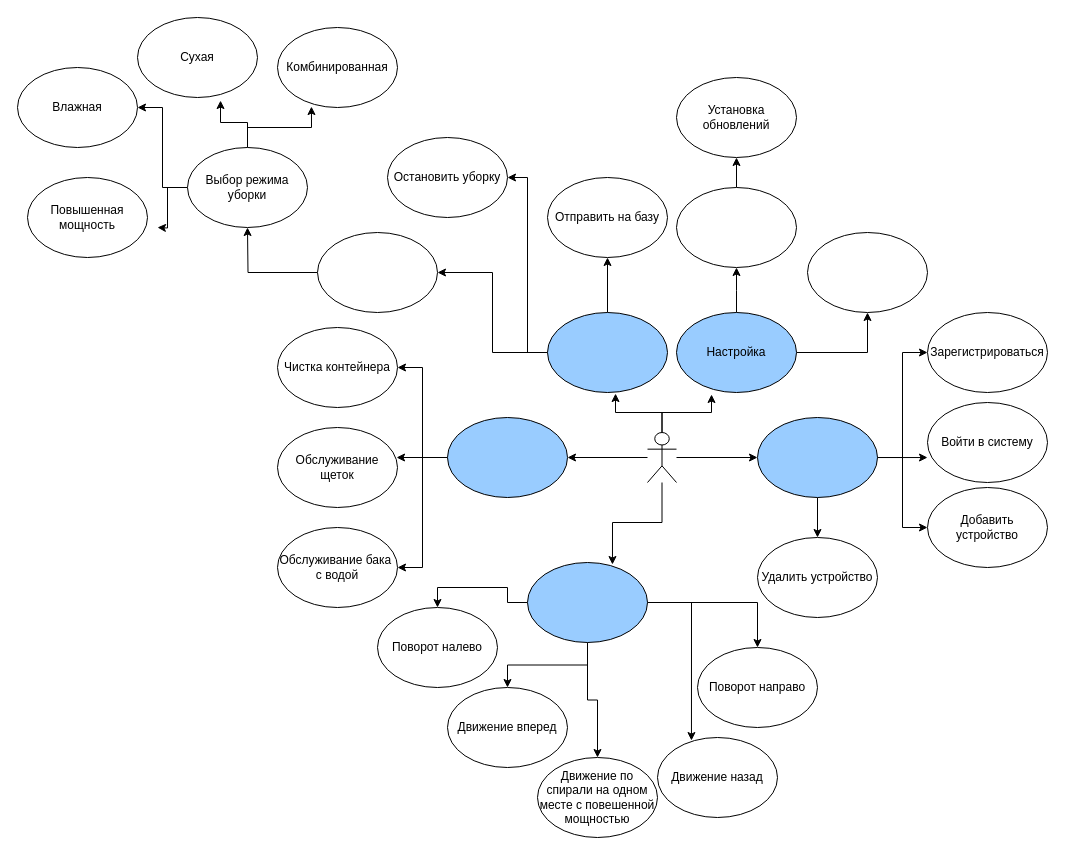
This 1065x855 diagram has some shape labels left out. Each missing label, with the box of its shape:
Actor: (646, 432, 676, 482)
Начать уборку: (316, 232, 438, 312)
Обслуживание: (446, 416, 568, 498)
Проверка наличия обновлений: (676, 186, 796, 268)
Система авторизации: (756, 416, 878, 498)
Составление расписания уборки: (806, 232, 928, 312)
Управление: (546, 312, 668, 392)
Управление движением с пульта: (526, 562, 648, 642)
